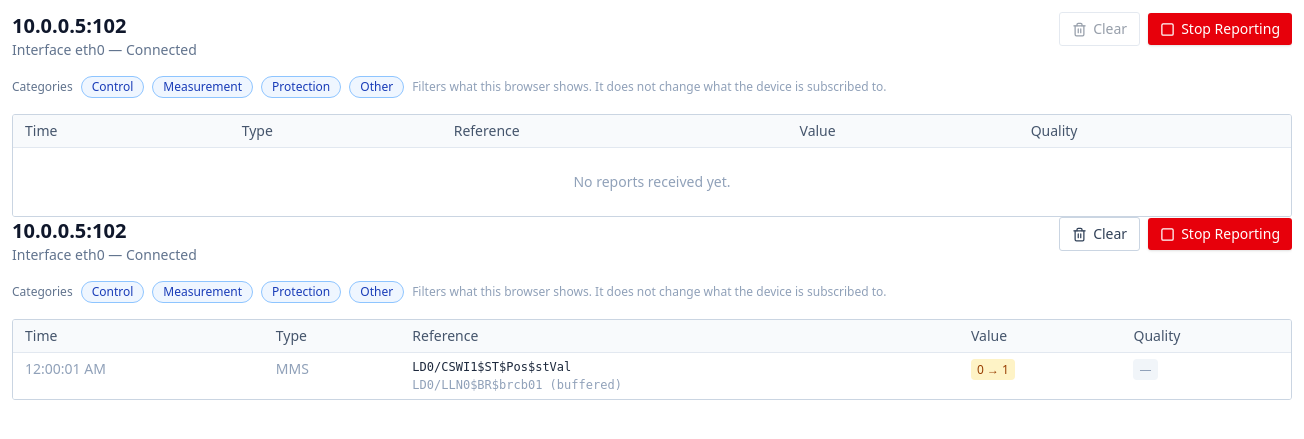
DeviceReportPanel category filter › distinguishes an empty stream from a fully-filtered one
expect the cell "No reports received yet." is shown: met, box [13, 148, 1291, 216]
What coordinates should you click on to do the following:
click the 2nd button "Control"
I would click on:
 (112, 292)
Its box is [81, 281, 144, 303].
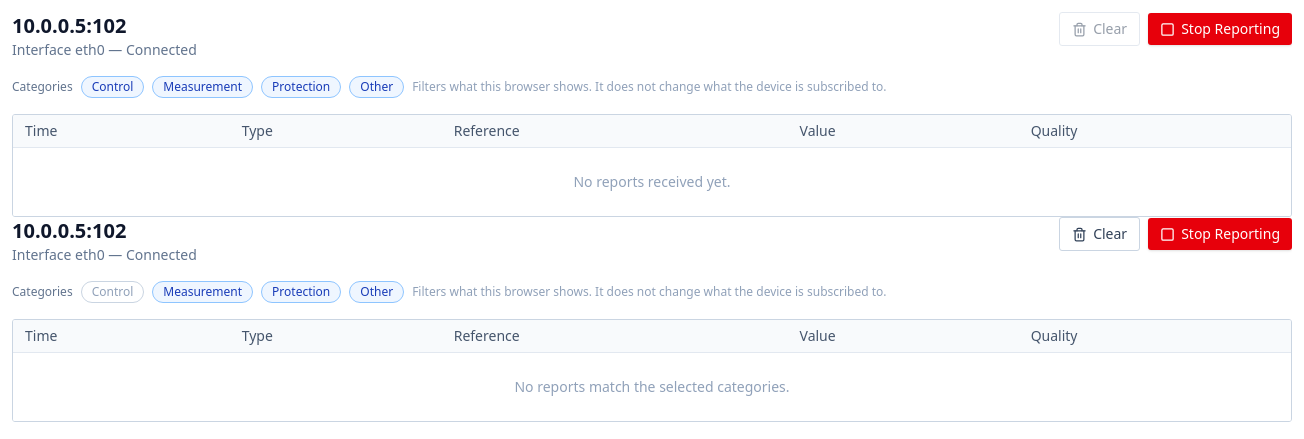
expect the cell "No reports match the selected categories." is shown: met, box [13, 352, 1291, 421]
